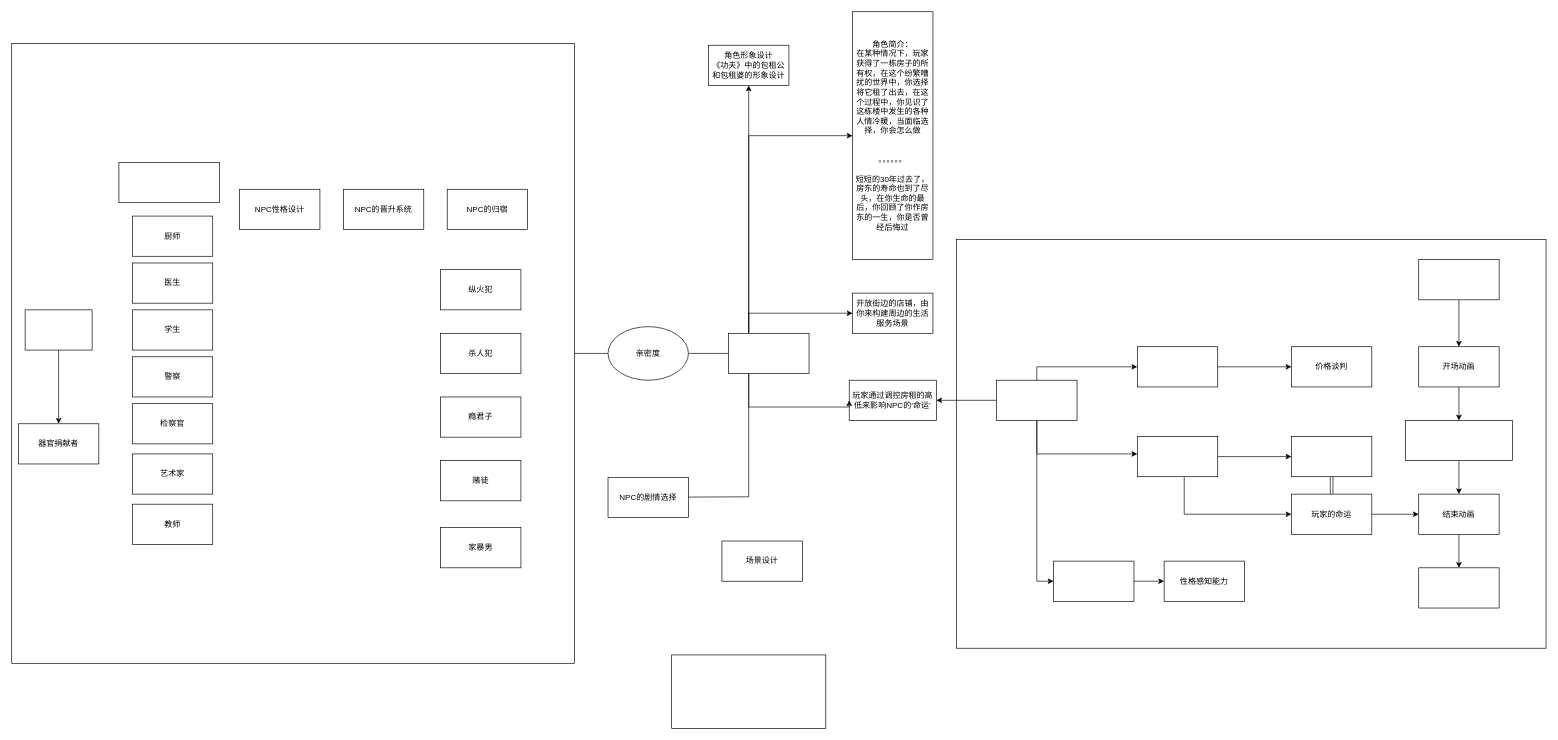
This 1558x740 diagram has some shape labels left out. The centre of each missing label's shape, as x and y in pixels:
"NPC的命运" belongs at (x=1331, y=456).
"NPC职业划分" belongs at (x=58, y=329).
"丰富且合理的NPC设计" belongs at (x=168, y=182).
"人生苦短，唯有自救" belongs at (x=748, y=691).
"命运系统（轮回）" belongs at (x=1177, y=456).
"房东" belongs at (x=768, y=353).
"技能系统" belongs at (x=1093, y=580).
"故事系统" belongs at (x=1458, y=279).
"是否再给你30年" belongs at (x=1458, y=587).
"游戏过程的NPC剧情触发" belongs at (x=1459, y=440).
"玩法介绍" belongs at (x=1036, y=400).
"金钱系统" belongs at (x=1177, y=366).
